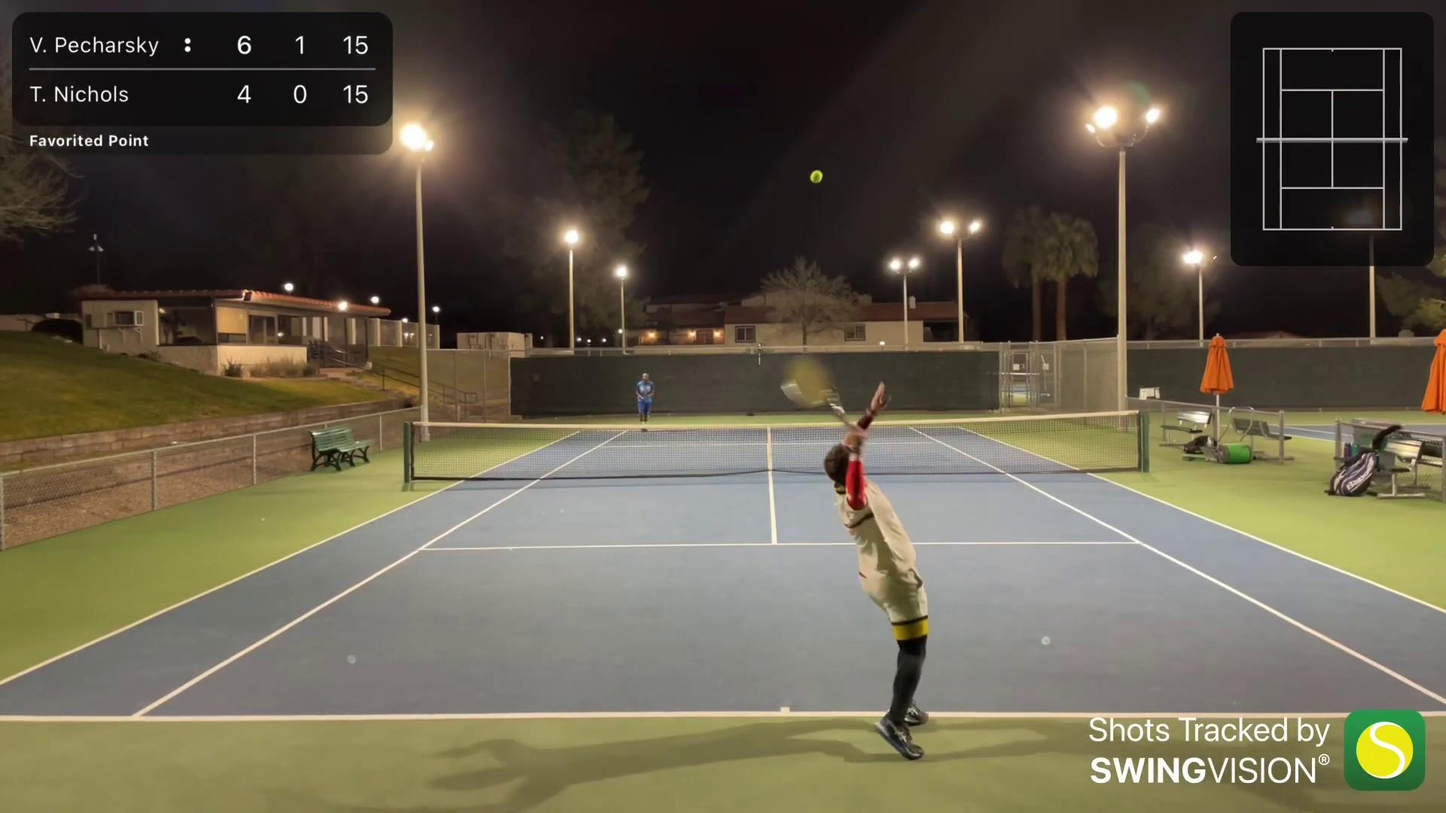ball: (641, 410, 647, 413)
